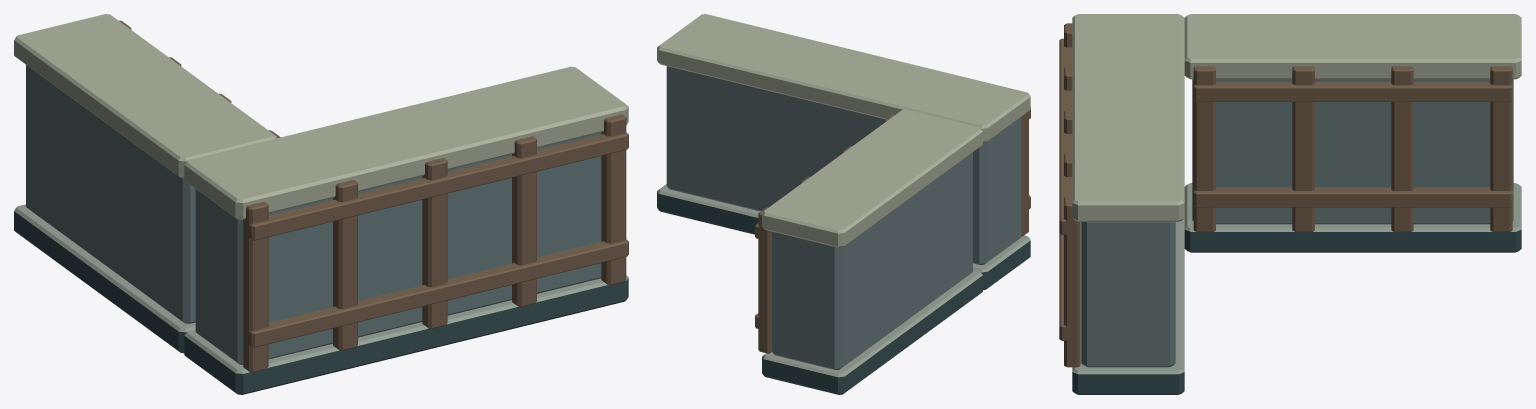
Rendered from wall-corner.glb.
3 views of the same model, side by side, from view 1: azimuth 30°, elevation 25°; view 2: azimuth 150°, elevation 25°; view 3: azimuth 270°, elevation 25° (orthographic). The views are drawn at different scales.
Parts seen in each view (by area): view 1: wall-corner__body; view 2: wall-corner__body; view 3: wall-corner__body.
Boxes of the visible parts, box(x1,y1,x2,y2) form: wall-corner__body: box(14, 14, 628, 394); wall-corner__body: box(657, 14, 1030, 394); wall-corner__body: box(1059, 14, 1521, 394).
Size of the model in its own units: 2 by 0.95 by 2.06.
